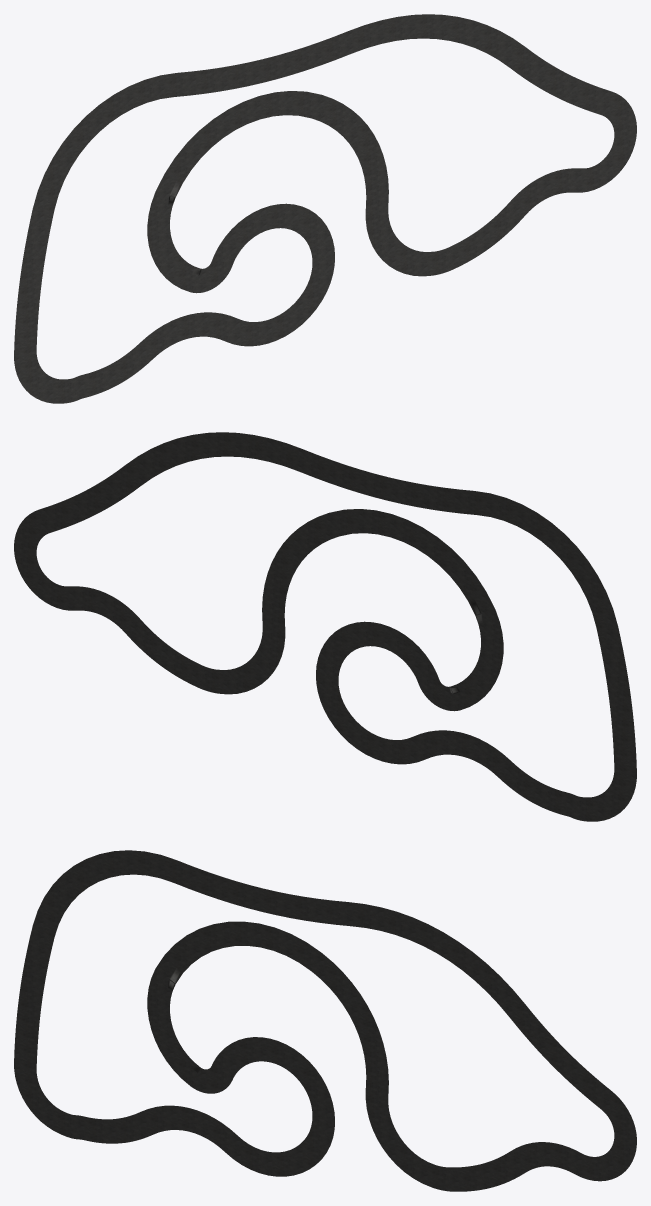
The model's file is track20_road.obj.
3 views of the same model, one above another, from view 1: azimuth 30°, elevation 25°; view 2: azimuth 150°, elevation 25°; view 3: azimuth 330°, elevation 25° (orthographic).
Visible parts, largest first — view 1: road_0_curve_.003; view 2: road_0_curve_.003; view 3: road_0_curve_.003.
Part boxes in pixels (x1,y1,x2,y2): road_0_curve_.003: (14, 14, 636, 403); road_0_curve_.003: (14, 432, 636, 821); road_0_curve_.003: (14, 850, 636, 1191).
Bounding box in the file's own units: 45.01 × 21.16 × 0.
Materials: 1 (1 with a texture image).
